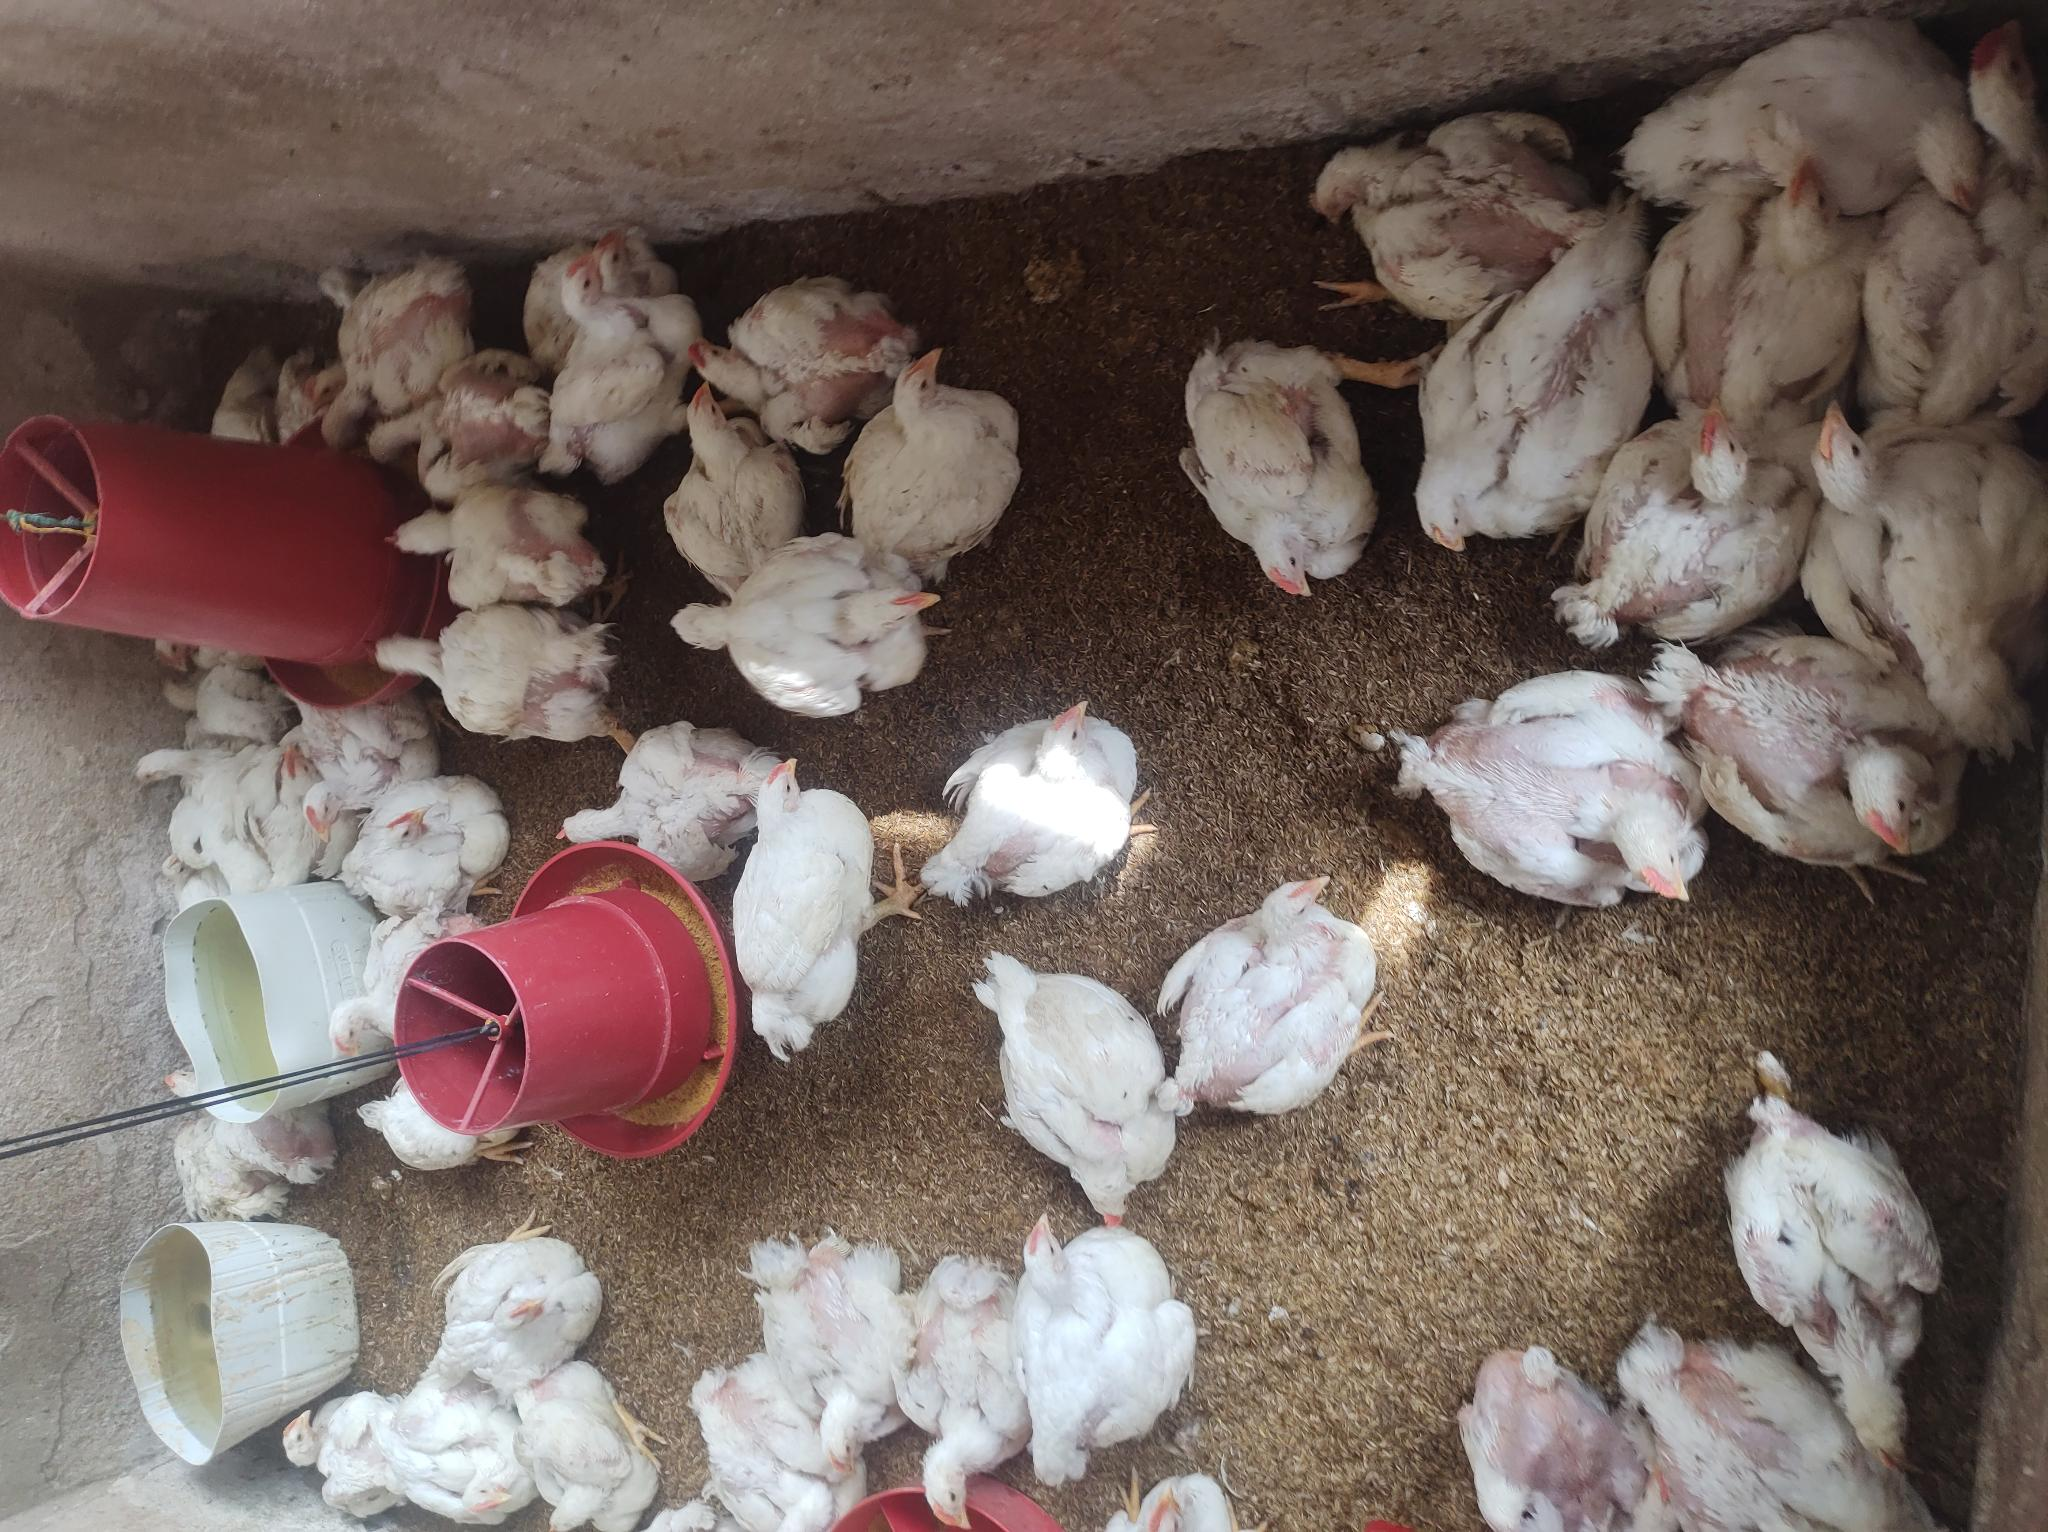Pollos: (1392, 233, 1665, 562), (1704, 1052, 1927, 1439), (1371, 655, 1704, 908), (1586, 5, 1972, 214), (1588, 1310, 1951, 1532), (1670, 629, 1971, 888), (1812, 377, 2048, 684), (1869, 24, 2048, 394), (1174, 336, 1411, 605), (1559, 389, 1799, 645), (735, 753, 923, 1057), (1663, 154, 1890, 406), (985, 964, 1202, 1220), (927, 679, 1149, 927), (681, 518, 935, 732), (1174, 874, 1390, 1115), (1290, 92, 1557, 286), (1017, 1180, 1199, 1435), (372, 600, 627, 756), (845, 356, 1030, 570), (681, 264, 931, 420), (664, 1353, 880, 1532), (1461, 1328, 1643, 1532), (903, 1242, 1026, 1519), (547, 719, 755, 883), (278, 904, 513, 1048), (772, 1236, 914, 1461), (140, 1065, 325, 1226), (315, 262, 470, 454), (359, 695, 510, 890), (536, 266, 669, 470), (647, 381, 800, 554), (449, 1204, 594, 1384), (380, 1365, 529, 1532), (376, 492, 603, 599), (372, 352, 537, 497), (529, 1324, 639, 1532), (331, 1078, 557, 1176), (282, 1371, 381, 1532), (536, 209, 669, 327), (1091, 1452, 1282, 1532), (117, 665, 285, 739), (312, 695, 396, 837), (196, 349, 294, 454), (143, 845, 232, 925), (146, 620, 254, 674), (130, 739, 236, 792), (262, 737, 315, 814)
